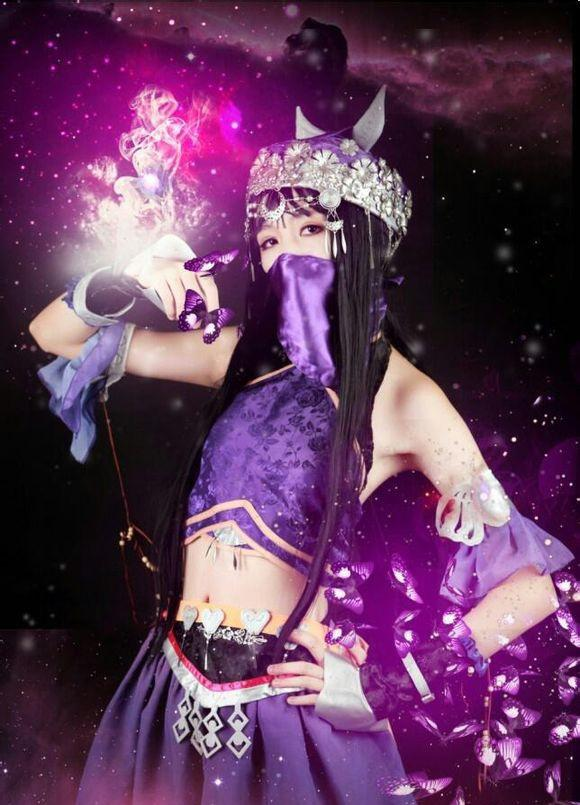WRONG: (256, 201, 350, 295)
